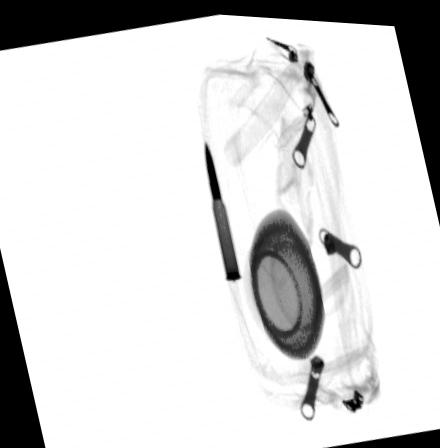Bullet: (203, 133, 242, 277)
